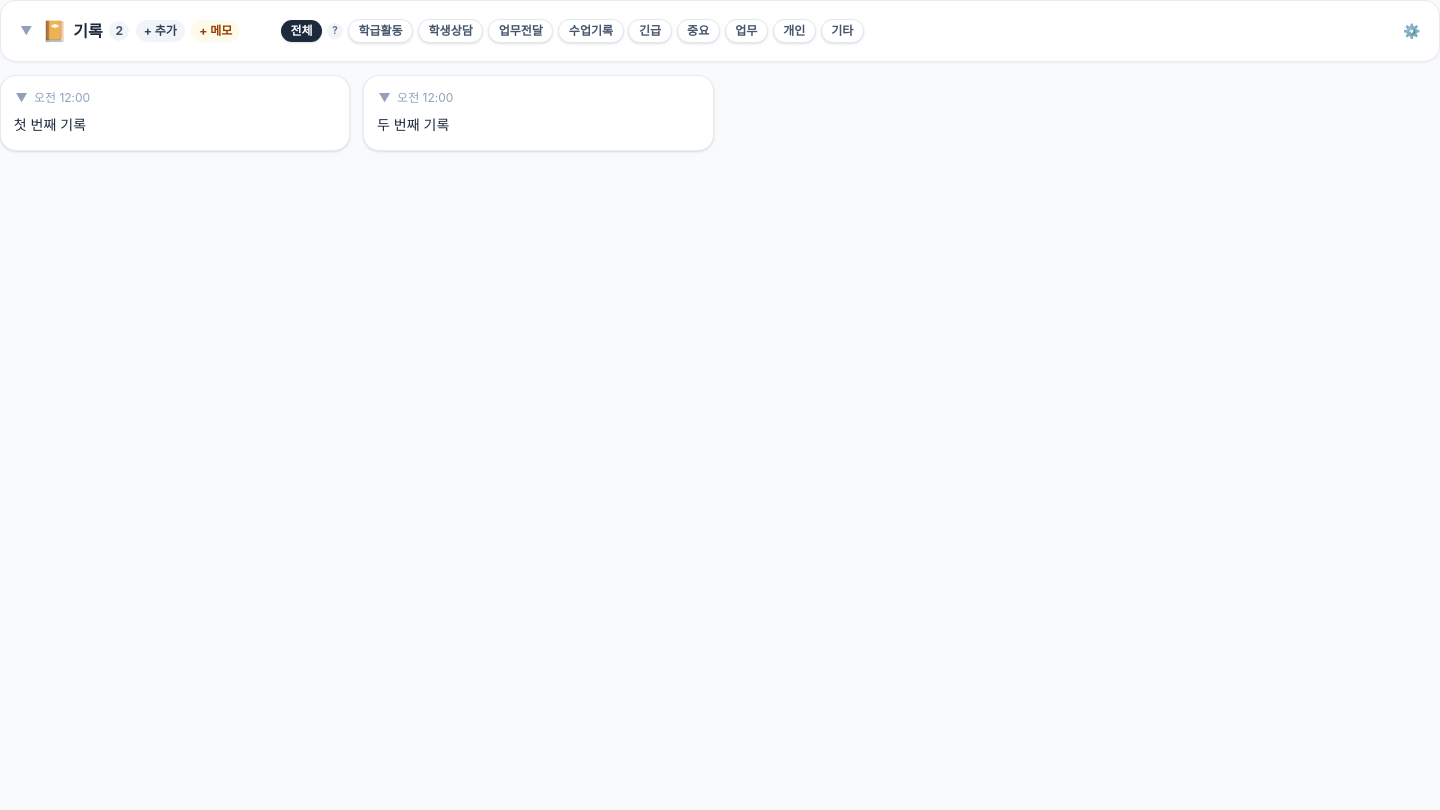
Test: DayJournal - 기록 추가/수정 배너 › + 추가를 누르면 새 기록 배너가 열린다
The image size is (1440, 810).
Click the button with aria-label "기록 추가" at (160, 31), box [136,20,185,42]
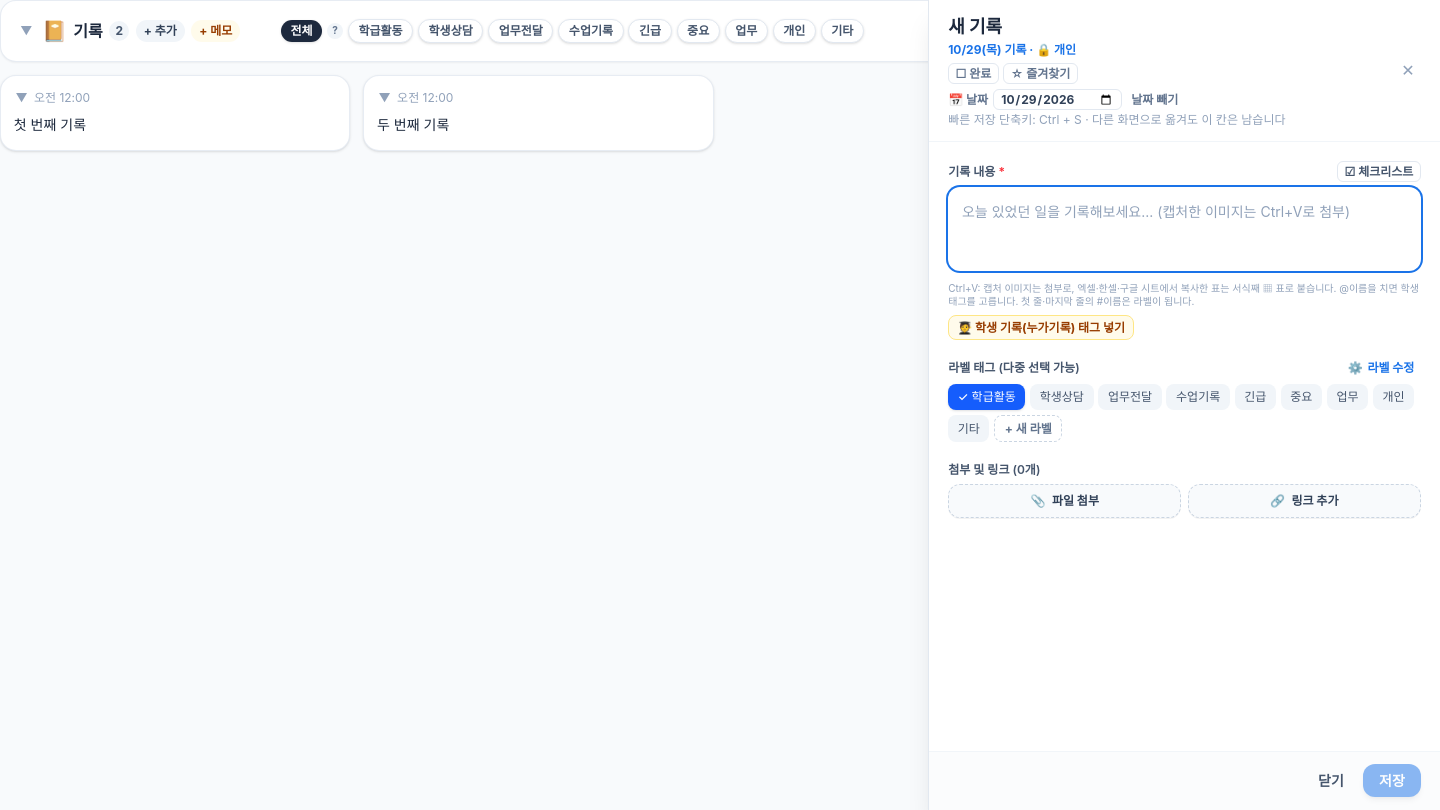
Expected: the heading "새 기록" is shown, [948,16,1002,37]
Expected: the text box with placeholder "오늘 있었던 일을 기록해보세요... (캡처한 이미지는 Ctrl+V로 첨부)" is shown, [948,187,1421,271]
